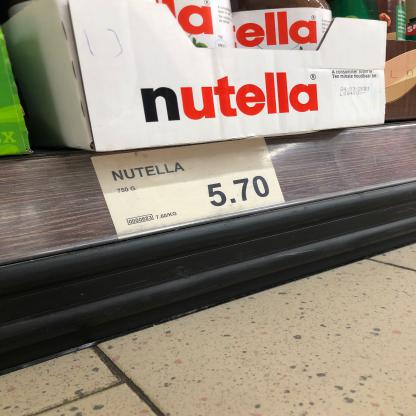prtg: (92, 139, 287, 237)
